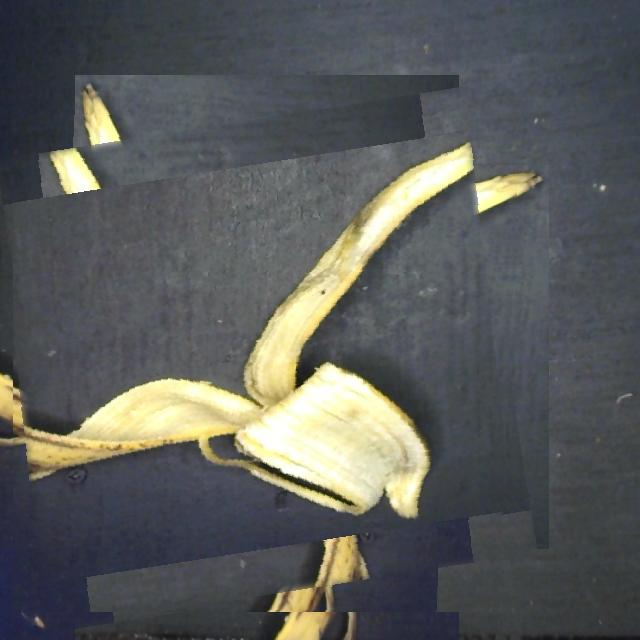biodegradable: (13, 103, 521, 612)
